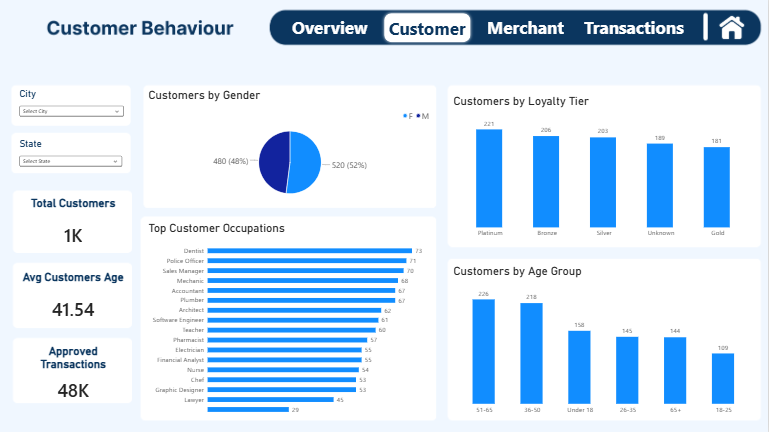

This screenshot's page, from the dashboard's own definition file:
{"tool":"powerbi","page":{"name":"Customer page","canvas":[1920,1080],"ordinal":2},"visuals":[{"type":"shape","box":[951.2,23.8,231.7,88.3],"z":0},{"type":"textbox","box":[728.8,38.8,222.5,57.5],"z":1000},{"type":"textbox","box":[1216.2,40,222.5,57.5],"z":2000},{"type":"textbox","box":[1459.3,39.3,265,57.5],"z":3000},{"type":"image","box":[1788.7,19.3,84.7,97.3],"z":4000},{"type":"cardVisual","title":"Total Customers","fields":{"Data":["Dax measure.number_cutomers"]},"box":[43.3,491.1,281.1,141.1],"z":5000},{"type":"cardVisual","title":"Avg Customers Age","fields":{"Data":["Dax measure.Avg_age"]},"box":[42.2,674.4,281.1,140],"z":6000},{"type":"cardVisual","title":"Approved Transactions","fields":{"Data":["Dax measure.Approved_Transactions_Count"]},"box":[43.3,860,281.1,145.6],"z":7000},{"type":"pieChart","title":"Customers by Gender","fields":{"Category":["Gold DimCustomer.Gender"],"Y":["Dax measure.number_cutomers"]},"box":[356,208,740,314],"z":8000},{"type":"clusteredColumnChart","title":"Customers by Age Group","fields":{"Category":["Gold DimCustomer.Age Group"],"Y":["Dax measure.number_cutomers"]},"box":[1118,648,786,408],"z":9000},{"type":"barChart","title":"Top Customer Occupations","fields":{"Category":["Gold DimCustomer.Job"],"Y":["Dax measure.number_cutomers"]},"box":[356,540,740,516],"z":10000},{"type":"columnChart","title":"Customers by Loyalty Tier","fields":{"Category":["Gold DimCustomer.Loyalty_tier"],"Y":["Dax measure.number_cutomers"]},"box":[1118,222,786,392],"z":11000},{"type":"listSlicer","fields":{"Values":["Gold DimCustomer.State"]},"box":[32.9,331.4,288.6,100],"z":12000},{"type":"listSlicer","fields":{"Values":["Gold DimCustomer.City"]},"box":[32.9,208.6,292.9,102.9],"z":13000}]}

Visuals, with their boxes in screenshot pixels (x1, y1, x2, y2), scaled from the page's 1920x1080 canvas onto the 769x432 screenshot:
shape: [x1=381, y1=10, x2=474, y2=45]
textbox: [x1=292, y1=16, x2=381, y2=39]
textbox: [x1=487, y1=16, x2=576, y2=39]
textbox: [x1=584, y1=16, x2=691, y2=39]
image: [x1=716, y1=8, x2=750, y2=47]
"Total Customers" cardVisual: [x1=17, y1=196, x2=130, y2=253]
"Avg Customers Age" cardVisual: [x1=17, y1=270, x2=129, y2=326]
"Approved Transactions" cardVisual: [x1=17, y1=344, x2=130, y2=402]
"Customers by Gender" pieChart: [x1=143, y1=83, x2=439, y2=209]
"Customers by Age Group" clusteredColumnChart: [x1=448, y1=259, x2=763, y2=422]
"Top Customer Occupations" barChart: [x1=143, y1=216, x2=439, y2=422]
"Customers by Loyalty Tier" columnChart: [x1=448, y1=89, x2=763, y2=246]
listSlicer - Gold DimCustomer.State: [x1=13, y1=133, x2=129, y2=173]
listSlicer - Gold DimCustomer.City: [x1=13, y1=83, x2=130, y2=125]
